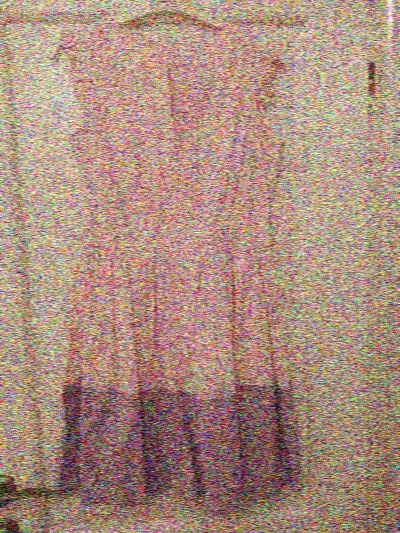Dress: (30, 25, 327, 499)
